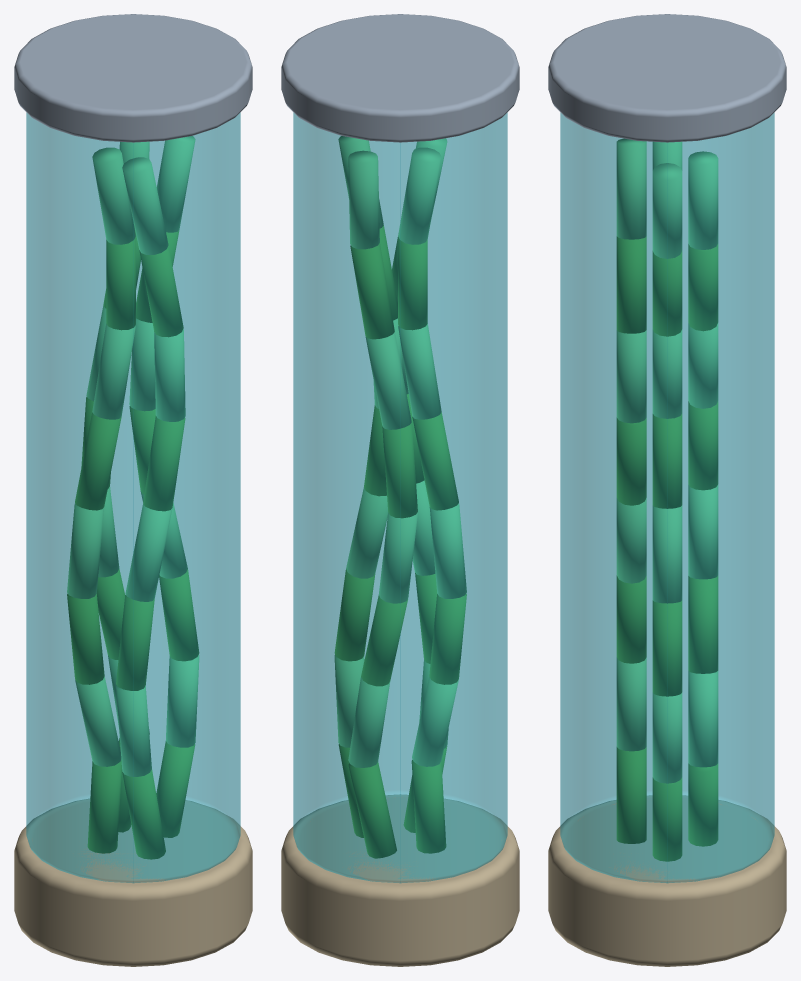
Rendered from kelp.glb.
3 views of the same model, side by side, from view 1: azimuth 30°, elevation 25°; view 2: azimuth 150°, elevation 25°; view 3: azimuth 270°, elevation 25° (orthographic).
Parts seen in each view (by area): view 1: kelp; view 2: kelp; view 3: kelp.
Part boxes in pixels (x1,y1,x2,y2): kelp: (14,14,252,966); kelp: (281,14,519,966); kelp: (548,14,786,966).
Bounding box in the file's own units: 0.8 × 3.18 × 0.8.
